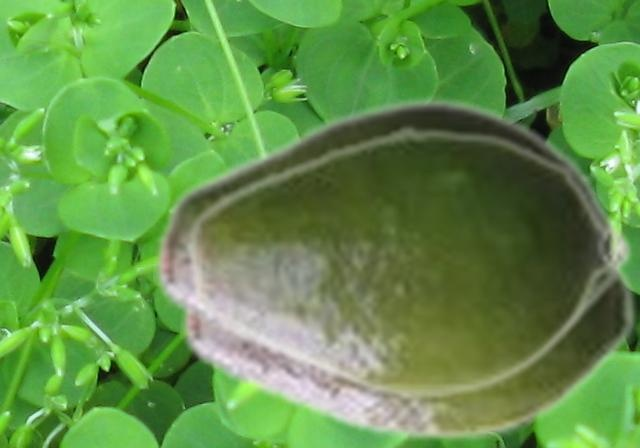avocado: (153, 95, 624, 391), (182, 122, 634, 402), (180, 266, 638, 444)
